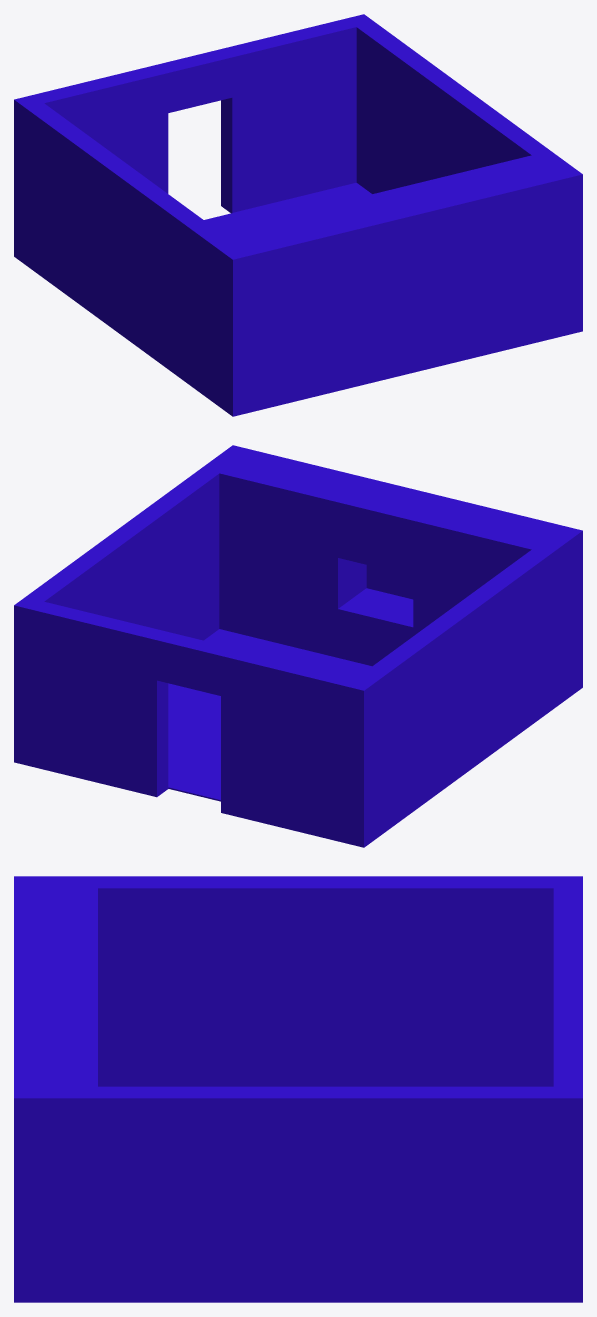
File: Sala1.fbx
3 views of the same model, one above another, from view 1: azimuth 30°, elevation 25°; view 2: azimuth 150°, elevation 25°; view 3: azimuth 270°, elevation 25° (orthographic). The views are drawn at different scales.
Parts seen in each view (by area): view 1: Box076; view 2: Box076; view 3: Box076.
Part boxes in pixels (<box>): Box076: <box>14,14,582,416</box>; Box076: <box>14,445,582,847</box>; Box076: <box>14,876,582,1302</box>.
Bounding box in the file's own units: 367 × 157 × 398.
